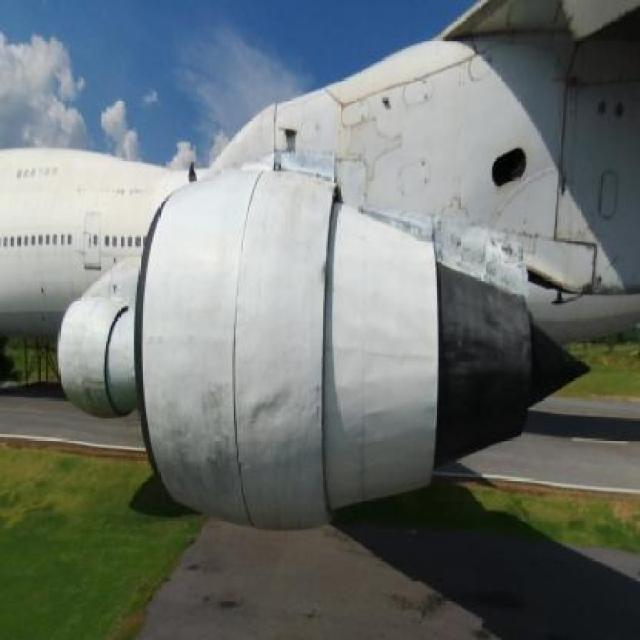Scartch: (169, 371, 243, 515)
